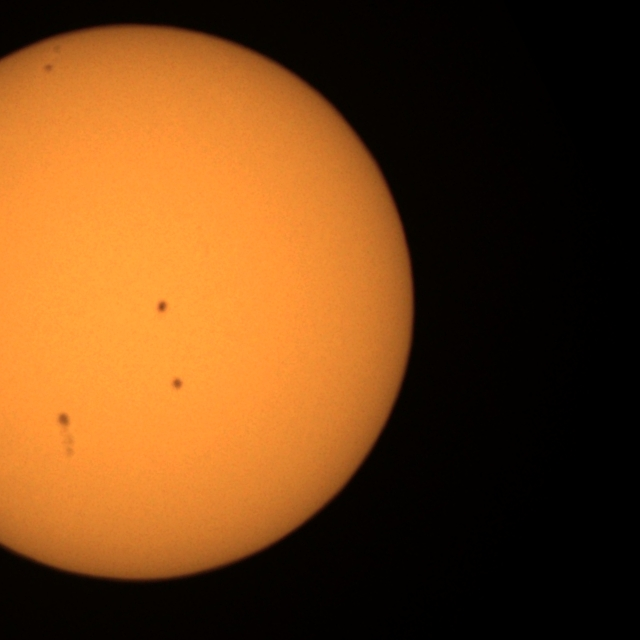sunspot: (56, 410, 78, 462), (55, 410, 72, 431), (170, 376, 185, 392), (155, 299, 169, 315), (42, 62, 54, 74)
